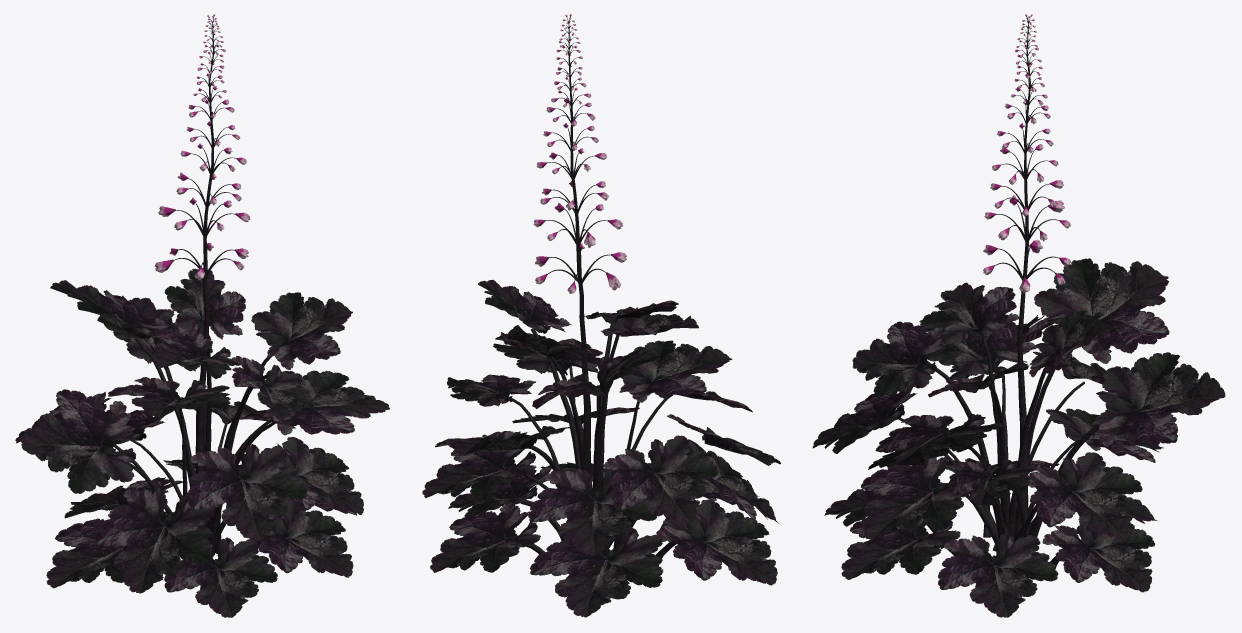
File: black_pearl_coral_fall.glb
3 renders of one model, left to right at view 1: azimuth 30°, elevation 25°; view 2: azimuth 150°, elevation 25°; view 3: azimuth 270°, elevation 25°, orthographic. The views are drawn at different scales.
Visible parts, largest first — view 1: Black_pearl_fall_0, Brak_fall_1, Bud_fall_2; view 2: Black_pearl_fall_0, Brak_fall_1, Bud_fall_2; view 3: Black_pearl_fall_0, Brak_fall_1, Bud_fall_2.
Boxes of the visible parts, <box> form: Black_pearl_fall_0: <box>15,268,389,617</box>; Brak_fall_1: <box>112,18,288,565</box>; Bud_fall_2: <box>154,14,250,280</box>; Black_pearl_fall_0: <box>422,280,780,617</box>; Brak_fall_1: <box>507,18,712,565</box>; Bud_fall_2: <box>533,14,626,293</box>; Black_pearl_fall_0: <box>812,258,1225,617</box>; Brak_fall_1: <box>898,17,1140,569</box>; Bud_fall_2: <box>983,14,1070,293</box>.
Bounding box in the file's own units: 1.02 × 1.55 × 1.05.
3 materials, 3 textured.
